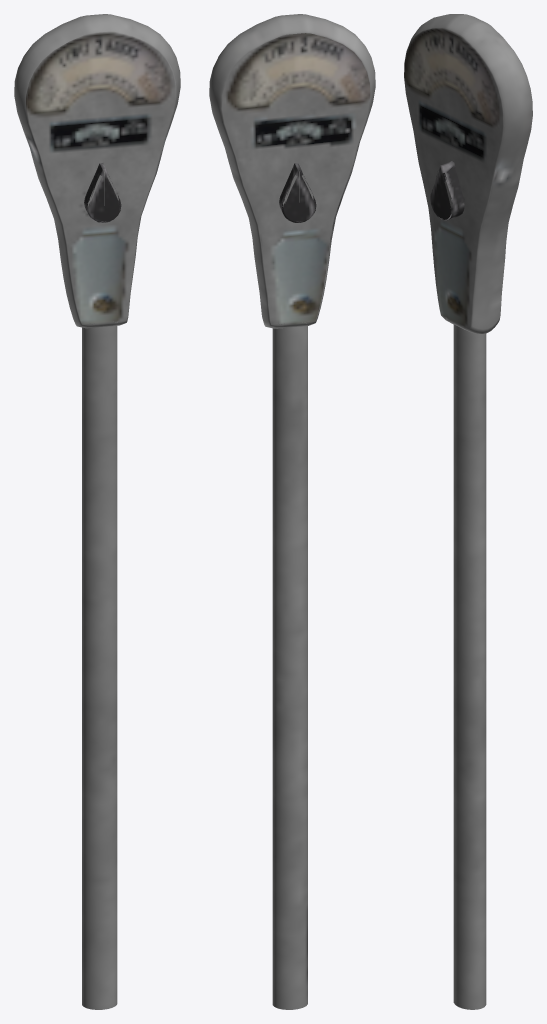
File: tj_parking_meter.fbx
3 views of the same model, side by side, from view 1: azimuth 30°, elevation 25°; view 2: azimuth 210°, elevation 25°; view 3: azimuth 330°, elevation 25° (orthographic).
Visible parts, largest first — view 1: tj_parking_meter_LOD0; view 2: tj_parking_meter_LOD0; view 3: tj_parking_meter_LOD0.
Part boxes in pixels (x1=…): tj_parking_meter_LOD0: x1=14, y1=14, x2=180, y2=1009; tj_parking_meter_LOD0: x1=209, y1=14, x2=375, y2=1009; tj_parking_meter_LOD0: x1=404, y1=14, x2=532, y2=1009.
Size of what is drawn, in the model's own units: 0.2068 by 1.39 by 0.1109.
1 material, 1 textured.
